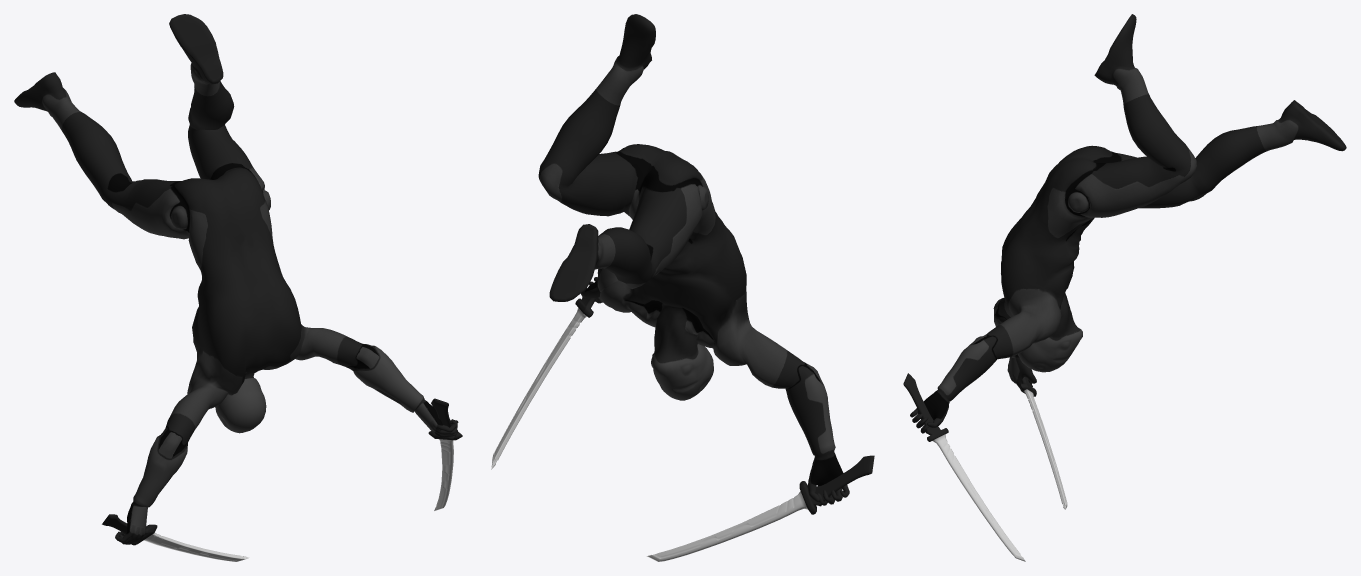
3 renders of one model, left to right at view 1: azimuth 30°, elevation 25°; view 2: azimuth 150°, elevation 25°; view 3: azimuth 270°, elevation 25°, orthographic. The views are drawn at different scales.
Visible parts, largest first — view 1: Cyborg_Ninja_Killer, Sword_l001, Sword_l; view 2: Cyborg_Ninja_Killer, Sword_l001, Sword_l; view 3: Cyborg_Ninja_Killer, Sword_l, Sword_l001.
Boxes of the visible parts, bbox=[...] form: Cyborg_Ninja_Killer: bbox=[14, 14, 458, 545]; Sword_l001: bbox=[102, 514, 249, 561]; Sword_l: bbox=[428, 398, 462, 510]; Cyborg_Ninja_Killer: bbox=[538, 14, 849, 505]; Sword_l001: bbox=[647, 455, 874, 561]; Sword_l: bbox=[491, 280, 597, 469]; Cyborg_Ninja_Killer: bbox=[910, 14, 1346, 433]; Sword_l: bbox=[903, 373, 1025, 561]; Sword_l001: bbox=[1020, 377, 1067, 509].
Size of the model in its own units: 145 by 213 by 177.
2 materials, 2 textured.
